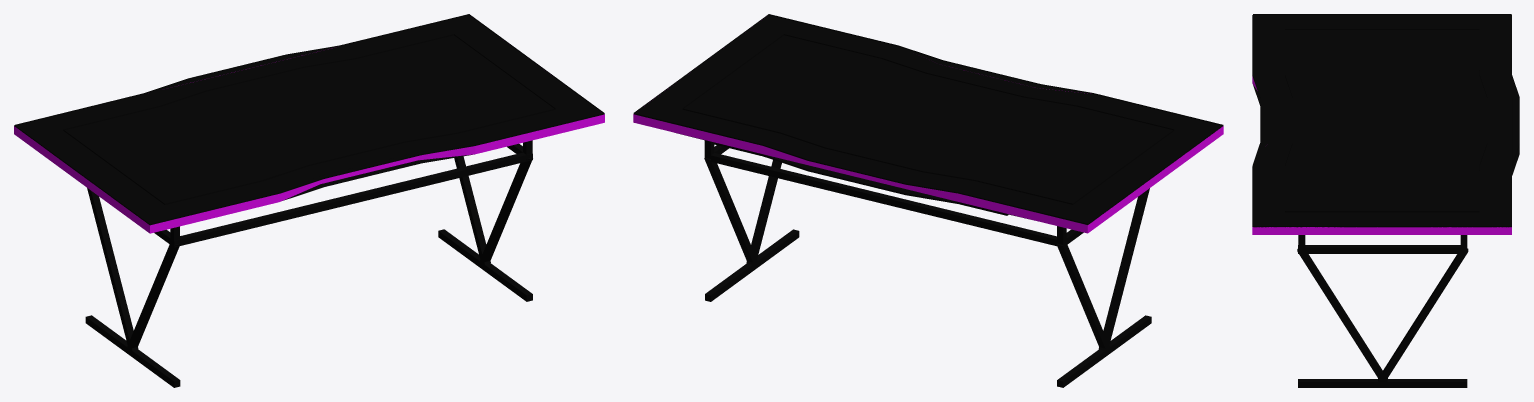
The model's file is tablegame.fbx.
3 views of the same model, side by side, from view 1: azimuth 30°, elevation 25°; view 2: azimuth 150°, elevation 25°; view 3: azimuth 270°, elevation 25° (orthographic). The views are drawn at different scales.
Parts seen in each view (by area): view 1: Cube, Куб.014, Куб.009, Куб.008, Куб.012, Куб.011, Куб.013, Куб.010; view 2: Cube, Куб.015, Куб.008, Куб.009, Куб.010, Куб.012, Куб.013, Куб.011; view 3: Cube, Куб.013, Куб.006, Куб.010, Куб.011.
Boxes of the visible parts, bbox=[...] form: Cube: bbox=[14, 14, 604, 233]; Куб.014: bbox=[176, 152, 529, 245]; Куб.009: bbox=[87, 188, 138, 350]; Куб.008: bbox=[127, 242, 180, 351]; Куб.012: bbox=[85, 315, 180, 387]; Куб.011: bbox=[480, 157, 532, 265]; Куб.013: bbox=[438, 229, 532, 301]; Куб.010: bbox=[454, 156, 490, 265]; Cube: bbox=[633, 14, 1223, 233]; Куб.015: bbox=[707, 153, 1061, 247]; Куб.008: bbox=[1098, 188, 1149, 350]; Куб.009: bbox=[1056, 243, 1109, 351]; Куб.010: bbox=[704, 157, 757, 265]; Куб.012: bbox=[1057, 315, 1151, 387]; Куб.013: bbox=[705, 229, 799, 301]; Куб.011: bbox=[746, 160, 781, 264]; Cube: bbox=[1252, 14, 1519, 234]; Куб.013: bbox=[1298, 379, 1467, 387]; Куб.006: bbox=[1298, 245, 1467, 253]; Куб.010: bbox=[1378, 248, 1468, 384]; Куб.011: bbox=[1297, 249, 1387, 384].
Size of the model in its own units: 594 by 241 by 316.
